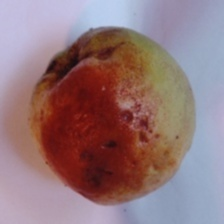guava: (51, 54, 196, 193)
